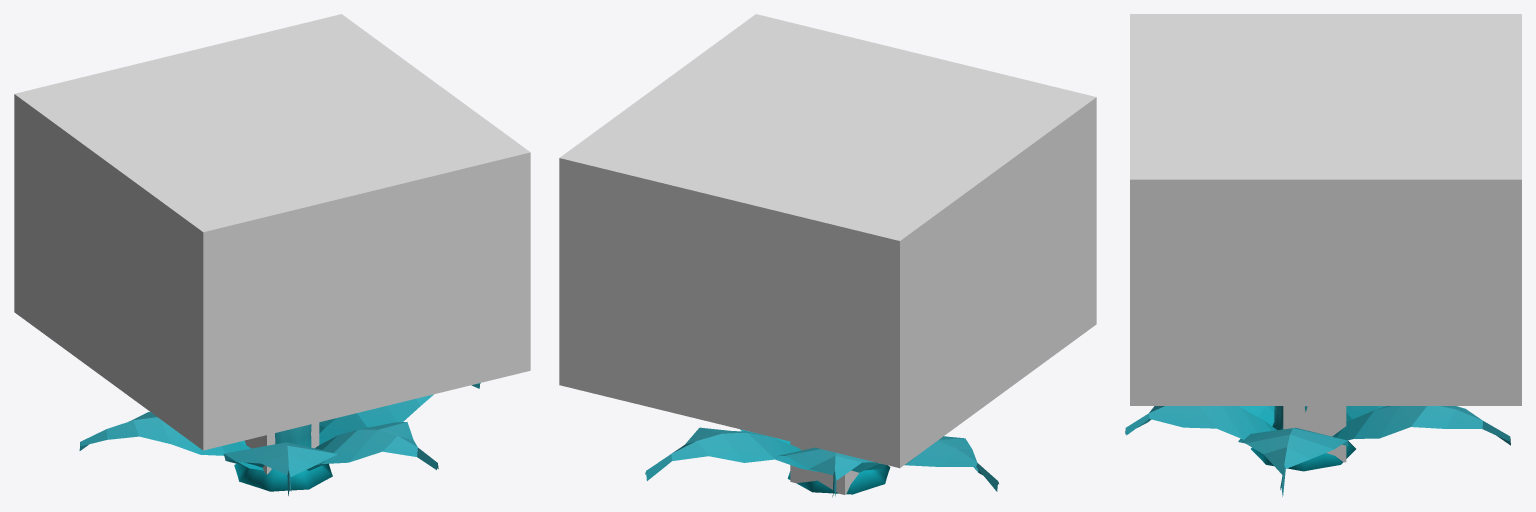
Rendered from Plant_Collector_06.fbx.
The picture shows the model from 3 angles, left to right: view 1: azimuth 30°, elevation 25°; view 2: azimuth 150°, elevation 25°; view 3: azimuth 270°, elevation 25°; orthographic projection. The views are drawn at different scales.
Visible parts, largest first — view 1: INTERACT_06, Plant_Collector_06, COL_06_0; view 2: INTERACT_06, Plant_Collector_06, COL_06_0; view 3: INTERACT_06, Plant_Collector_06, COL_06_0.
Boxes of the visible parts, left/top/right/bottom form: INTERACT_06: left=14, top=14, right=530, bottom=450; Plant_Collector_06: left=79, top=383, right=480, bottom=495; COL_06_0: left=244, top=422, right=319, bottom=474; INTERACT_06: left=559, top=14, right=1096, bottom=468; Plant_Collector_06: left=645, top=427, right=998, bottom=497; COL_06_0: left=790, top=441, right=859, bottom=494; INTERACT_06: left=1130, top=14, right=1521, bottom=405; Plant_Collector_06: left=1125, top=406, right=1510, bottom=496; COL_06_0: left=1283, top=406, right=1346, bottom=462.
Bounding box in the file's own units: 2.78 × 2.48 × 2.53.
